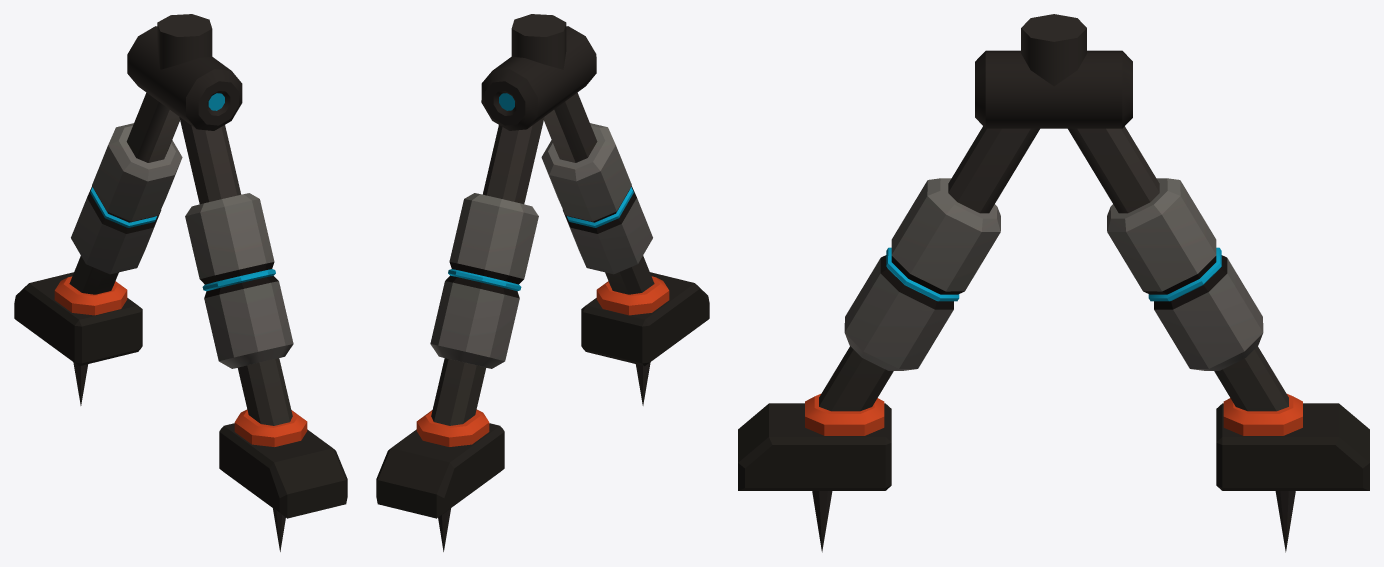
File: MG4_Bipod.fbx
3 views of the same model, side by side, from view 1: azimuth 30°, elevation 25°; view 2: azimuth 150°, elevation 25°; view 3: azimuth 270°, elevation 25° (orthographic). The views are drawn at different scales.
Parts seen in each view (by area): view 1: MG4_Bipod; view 2: MG4_Bipod; view 3: MG4_Bipod.
Part boxes in pixels (<box>): MG4_Bipod: <box>14,14,347,551</box>; MG4_Bipod: <box>376,14,709,551</box>; MG4_Bipod: <box>738,14,1369,552</box>.
Size of the model in its own units: 4.63 by 29.45 by 31.97.
